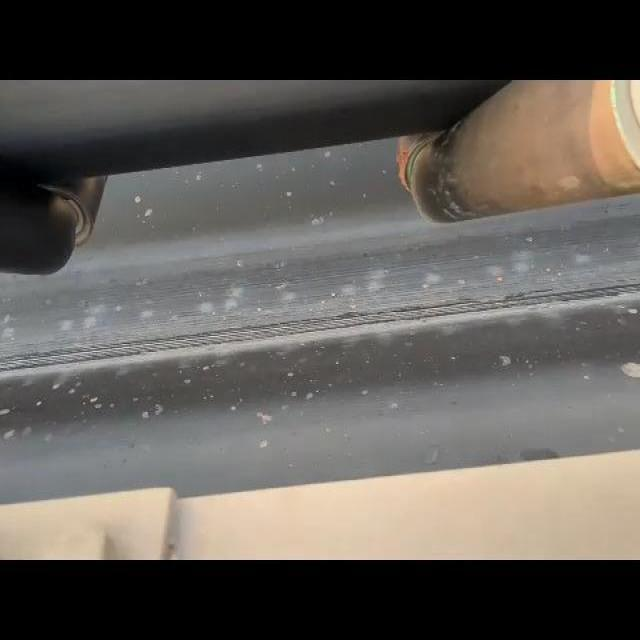Wear: (12, 258, 630, 410)
